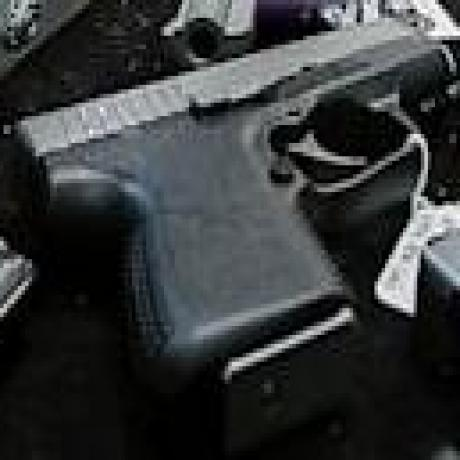weapon: (6, 7, 458, 393)
